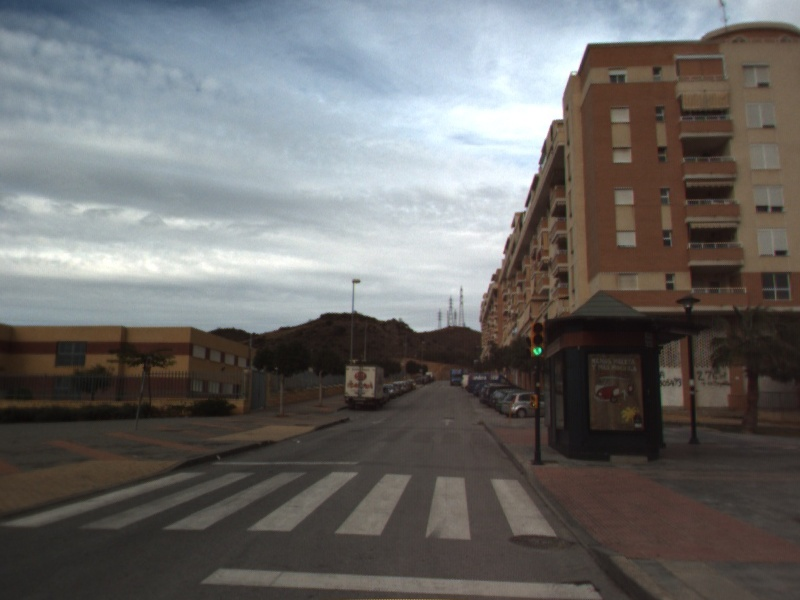STRAIGHT: (439, 416, 457, 427)
